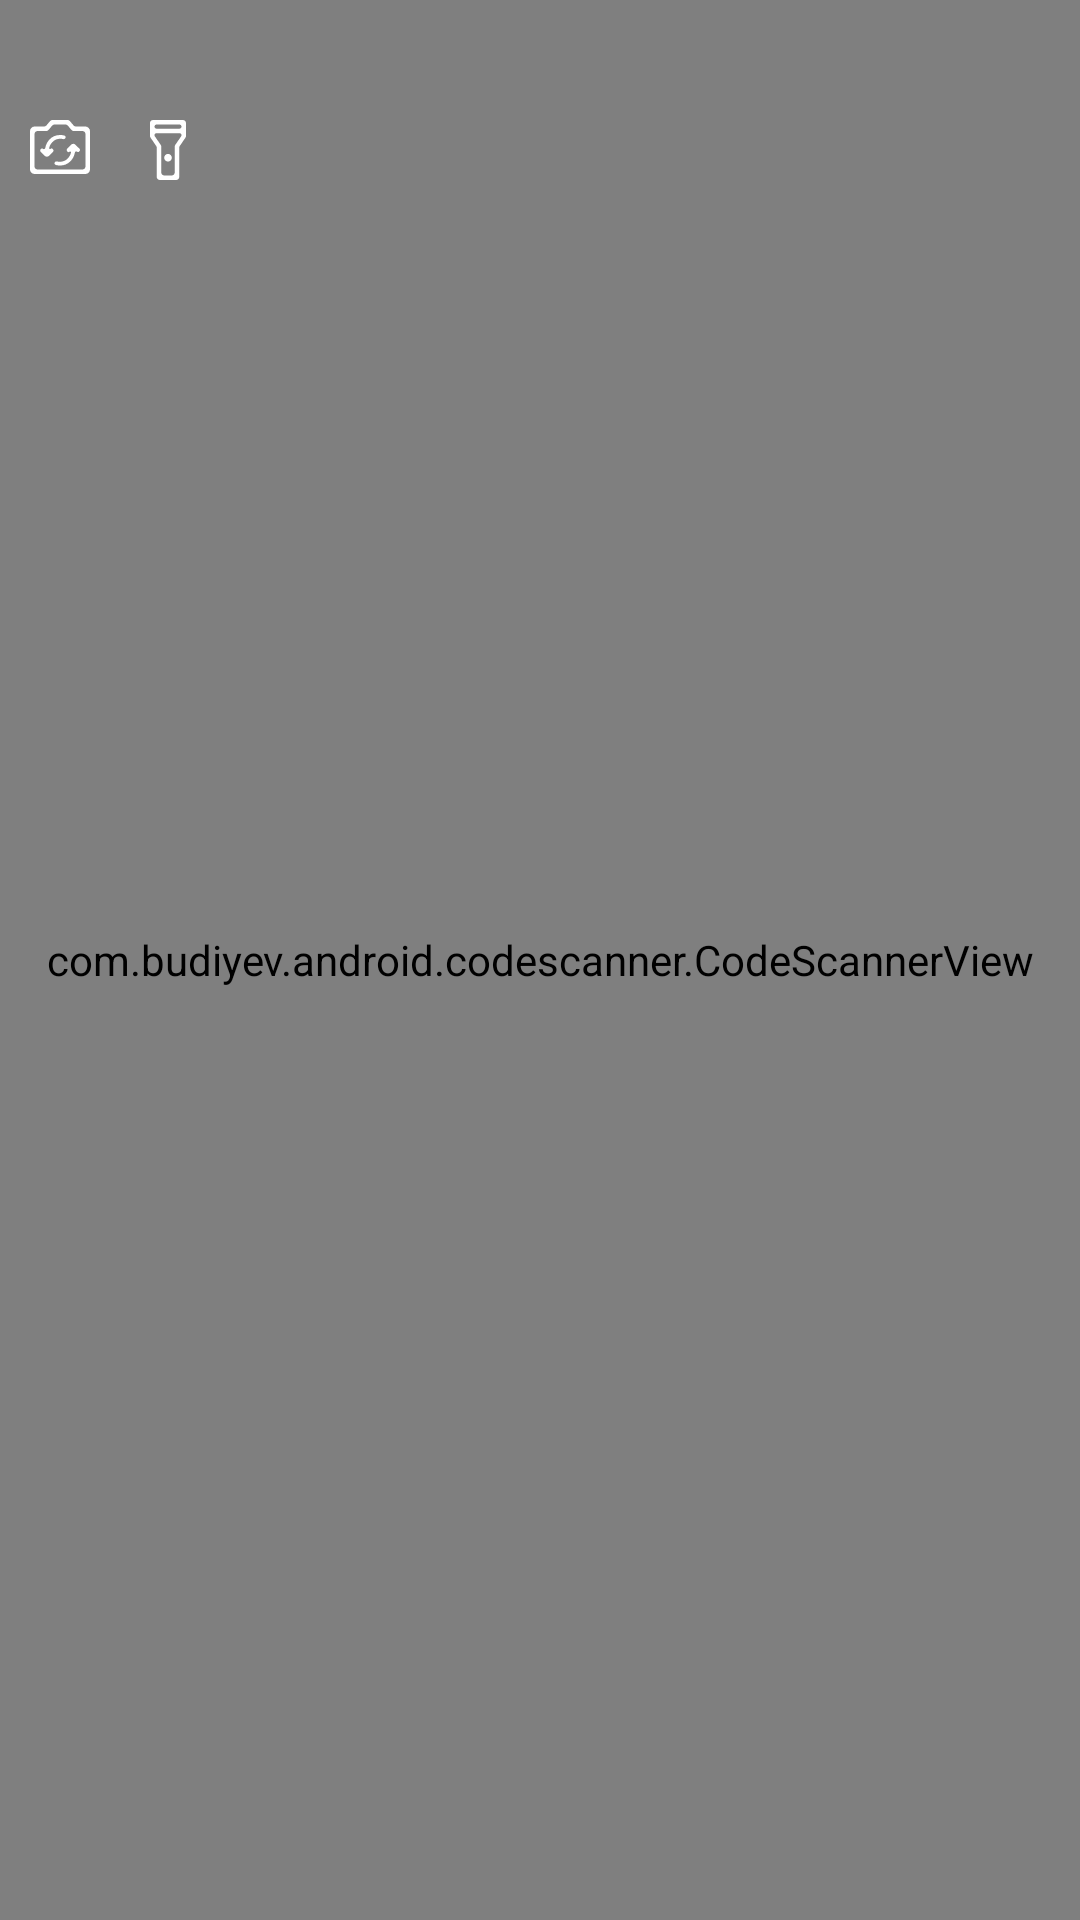

Icons on this 1080 × 1920 Android screen, each with its box as Rect(x1, y1, x2, y2):
camera: Rect(30, 120, 90, 174)
flash: Rect(150, 120, 186, 180)
